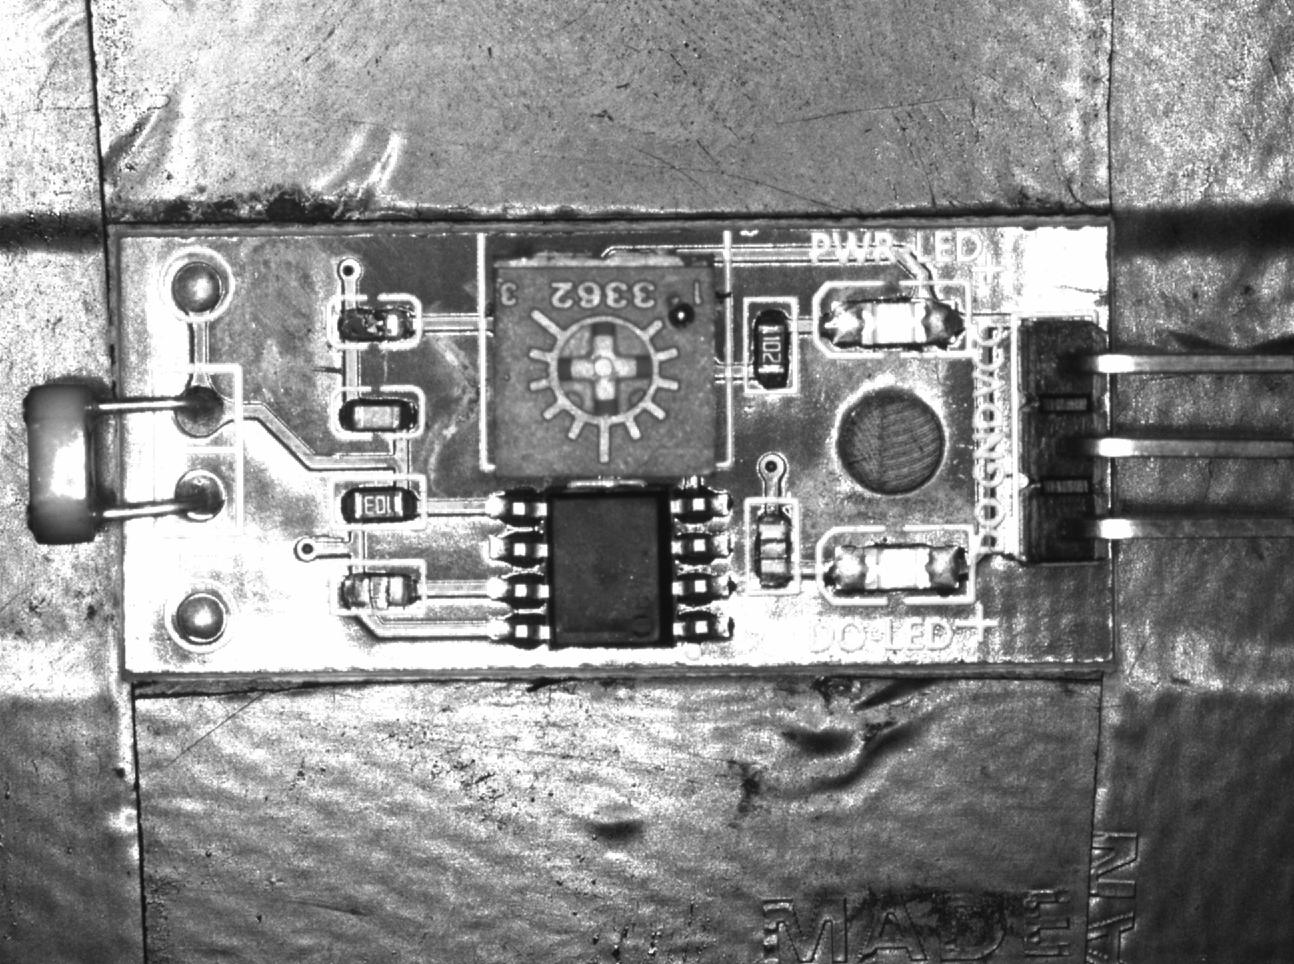miss: (330, 563, 426, 618), (326, 296, 420, 349), (744, 501, 796, 594)
ok: (333, 471, 428, 528), (329, 389, 426, 441), (745, 296, 794, 395)
